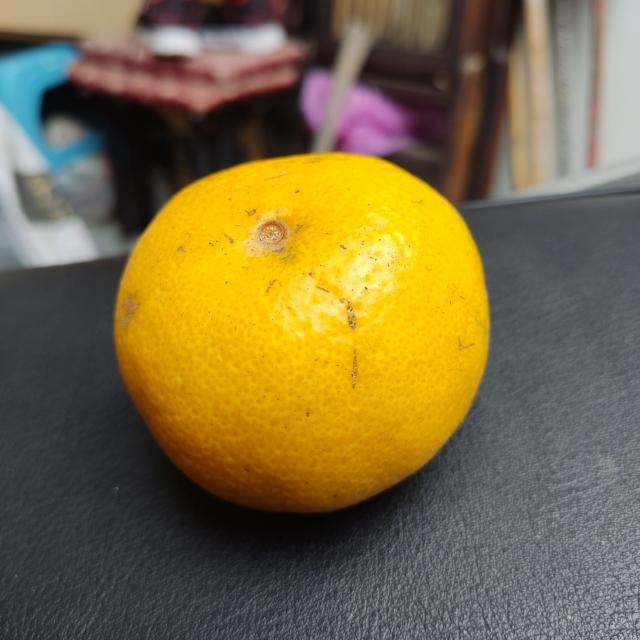agrume: (108, 146, 489, 524)
